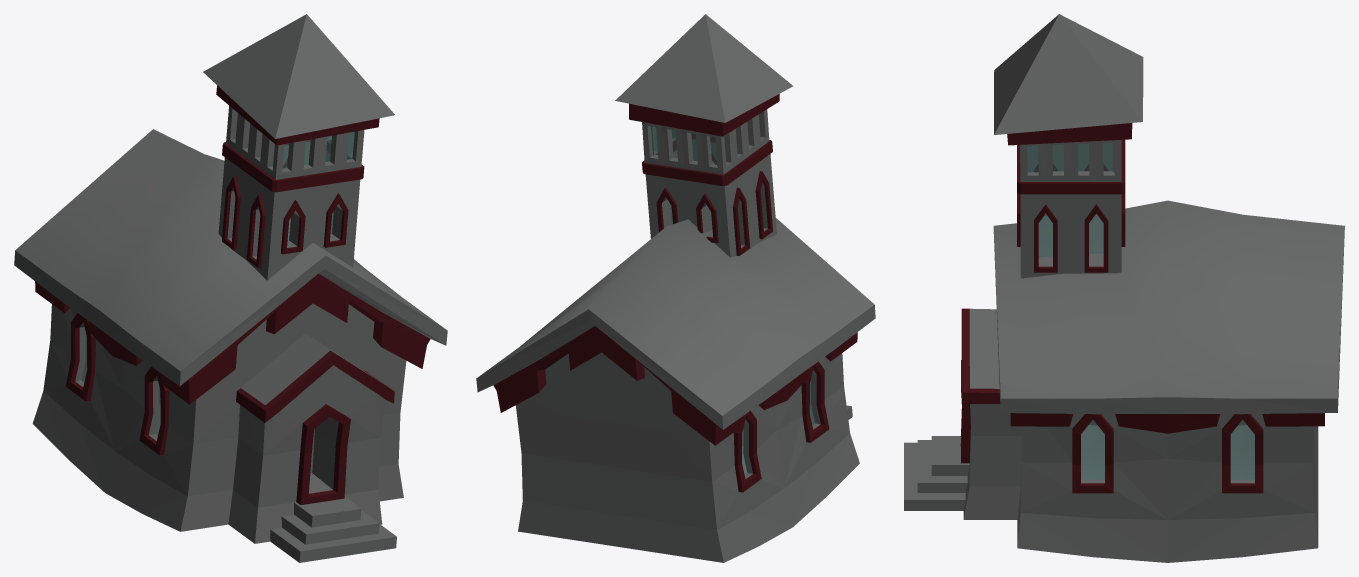
File: Eglise.FBX
3 views of the same model, side by side, from view 1: azimuth 30°, elevation 25°; view 2: azimuth 150°, elevation 25°; view 3: azimuth 270°, elevation 25° (orthographic). The views are drawn at different scales.
Visible parts, largest first — view 1: Eglise001; view 2: Eglise001; view 3: Eglise001.
Part boxes in pixels (x1,y1,x2,y2): Eglise001: [14, 14, 447, 562]; Eglise001: [476, 14, 875, 562]; Eglise001: [904, 14, 1344, 562].
Bounding box in the file's own units: 177 × 316 × 247.
